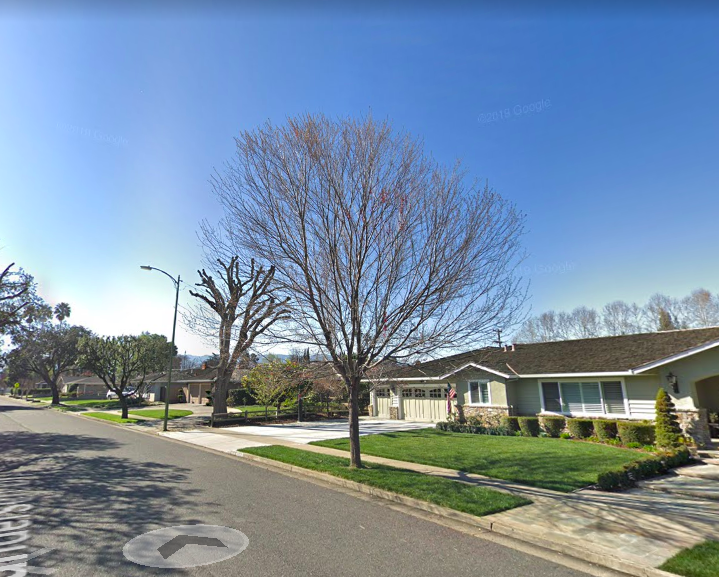tree: (172, 108, 531, 469)
